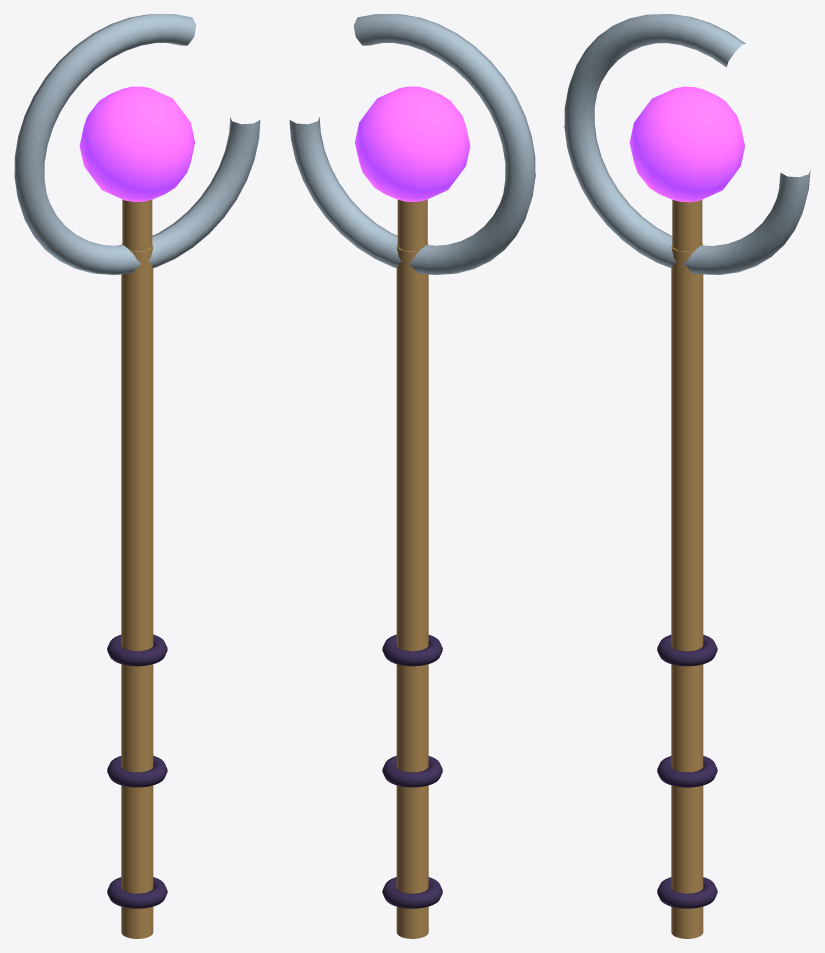
Rendered from crescent_staff.glb.
3 renders of one model, left to right at view 1: azimuth 30°, elevation 25°; view 2: azimuth 150°, elevation 25°; view 3: azimuth 330°, elevation 25°, orthographic.
Visible parts, largest first — view 1: crescent-focus-staff; view 2: crescent-focus-staff; view 3: crescent-focus-staff.
Boxes of the visible parts, <box> form: crescent-focus-staff: <box>14,14,260,938</box>; crescent-focus-staff: <box>289,14,535,938</box>; crescent-focus-staff: <box>564,14,810,938</box>.
Size of the model in its own units: 0.6294 by 2.26 by 0.2535.
